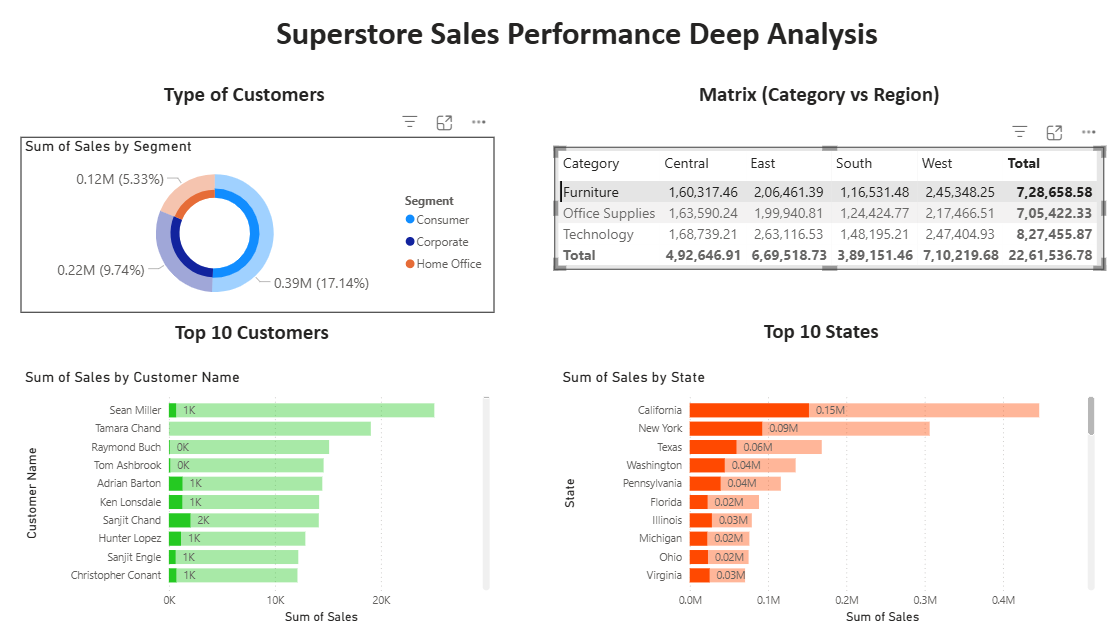

What the dashboard file says about the page in this screenshot:
{"tool":"powerbi","page":{"name":"Page 2","canvas":[1280,720],"ordinal":1},"visuals":[{"type":"donutChart","fields":{"Category":["cleaned_superstore.Segment"],"Y":["Sum(cleaned_superstore.Sales)"]},"box":[25.7,158.6,541.4,201.4],"z":0},{"type":"clusteredBarChart","fields":{"Category":["cleaned_superstore.Customer Name"],"Y":["Sum(cleaned_superstore.Sales)"]},"box":[25.7,422.9,541.4,297.1],"z":1000},{"type":"clusteredBarChart","fields":{"Category":["cleaned_superstore.State"],"Y":["Sum(cleaned_superstore.Sales)"]},"box":[640,422.9,618.6,297.1],"z":2000},{"type":"pivotTable","fields":{"Rows":["cleaned_superstore.Category"],"Columns":["cleaned_superstore.Region"],"Values":["Sum(cleaned_superstore.Sales)"]},"box":[635.7,170,628.6,140],"z":3000},{"type":"textbox","box":[197.1,361.4,198.6,44.3],"z":3001},{"type":"textbox","box":[870,360,162.9,45.7],"z":3002},{"type":"textbox","box":[795.7,90,310,48.6],"z":3003},{"type":"textbox","box":[184.3,90,225.7,44.3],"z":3004},{"type":"textbox","box":[312.9,12.9,712.9,61.4],"z":3005}]}

Visuals, with their boxes in screenshot pixels (x1, y1, x2, y2), scaled from the page's 1280x720 canvas onto the 1115x626 screenshot:
donutChart - cleaned_superstore.Segment x Sum(cleaned_superstore.Sales): 22/138/494/313
clusteredBarChart - cleaned_superstore.Customer Name x Sum(cleaned_superstore.Sales): 22/368/494/625
clusteredBarChart - cleaned_superstore.State x Sum(cleaned_superstore.Sales): 558/368/1096/625
pivotTable - cleaned_superstore.Category x cleaned_superstore.Region: 554/148/1101/270
textbox: 172/314/345/353
textbox: 758/313/900/353
textbox: 693/78/963/121
textbox: 161/78/357/117
textbox: 273/11/894/65
